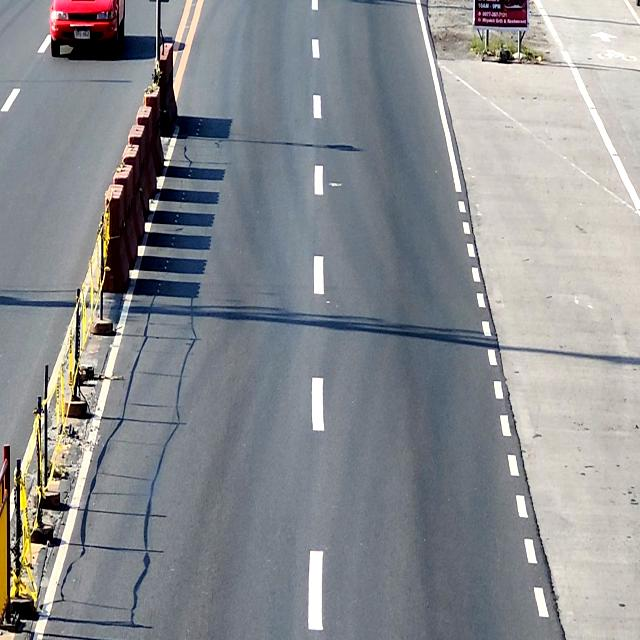Car: (50, 0, 125, 59)
License-Plate: (74, 30, 90, 39)
